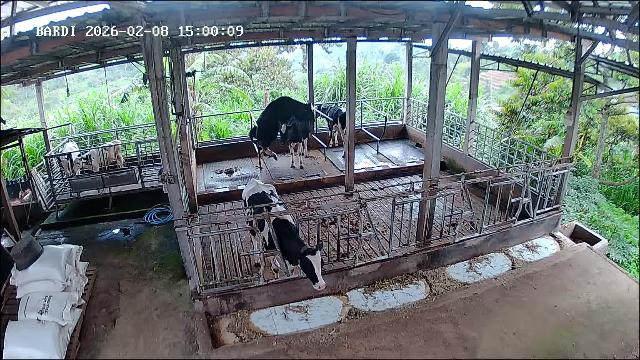mounting: (252, 94, 316, 161)
